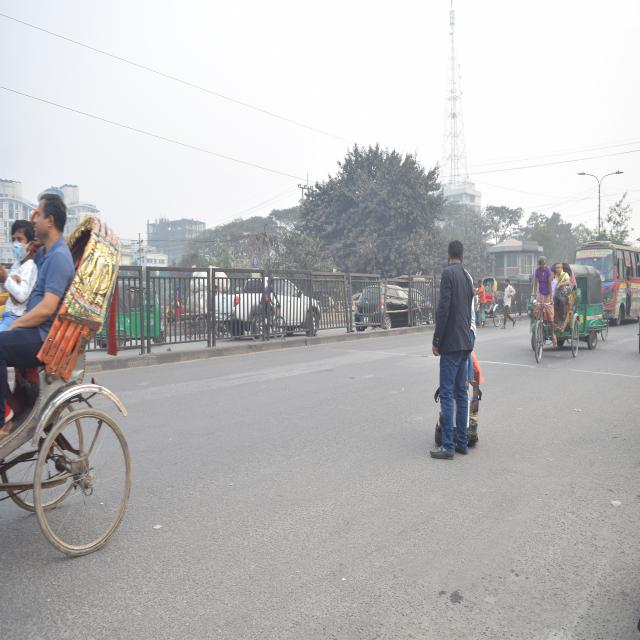bus: (578, 240, 639, 323)
car: (234, 271, 320, 328), (355, 277, 419, 330)
motorbike: (242, 294, 284, 346)
